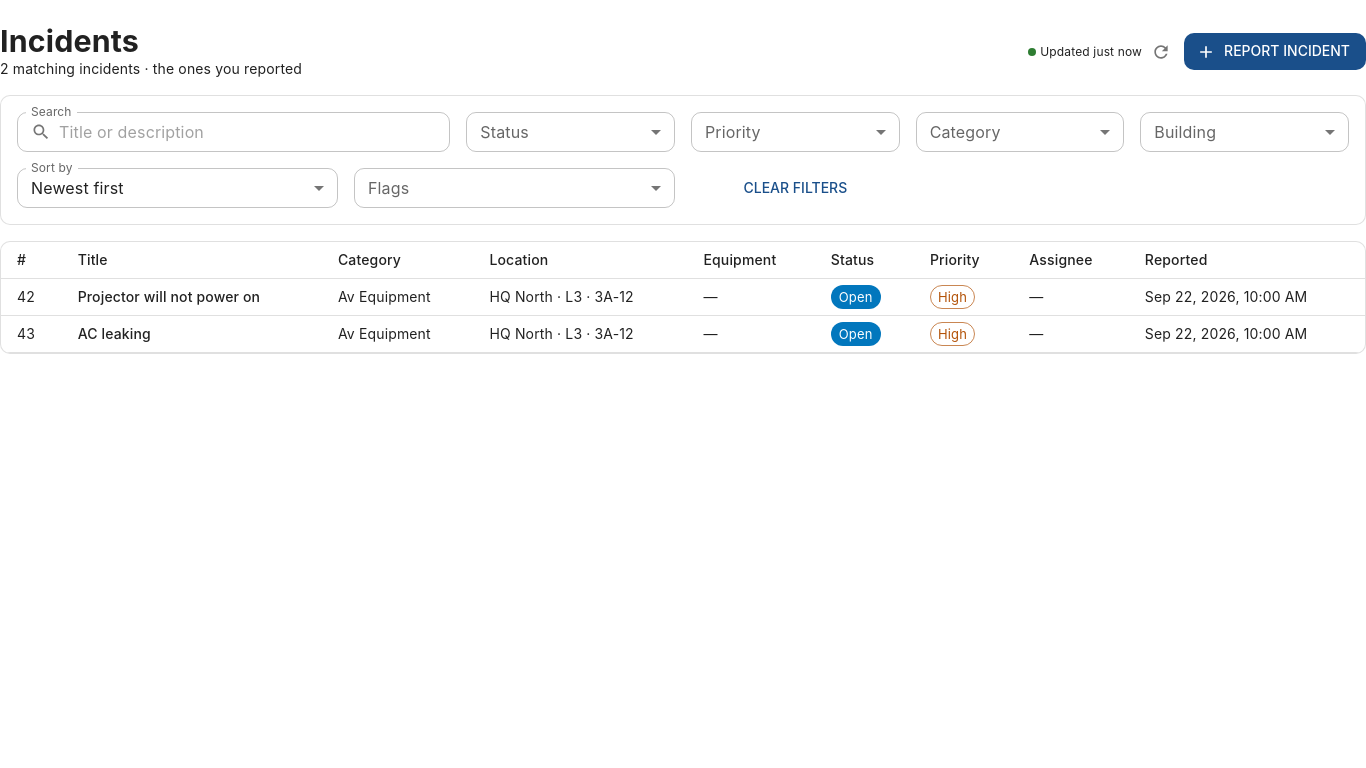
Test case: reporting an incident › reports a rejected submission instead of closing silently
Expected: the text "Projector will not power on" is shown, [78,288,260,308]
Click the button "Report incident". click: (1275, 52)
box: [1184,34,1365,70]
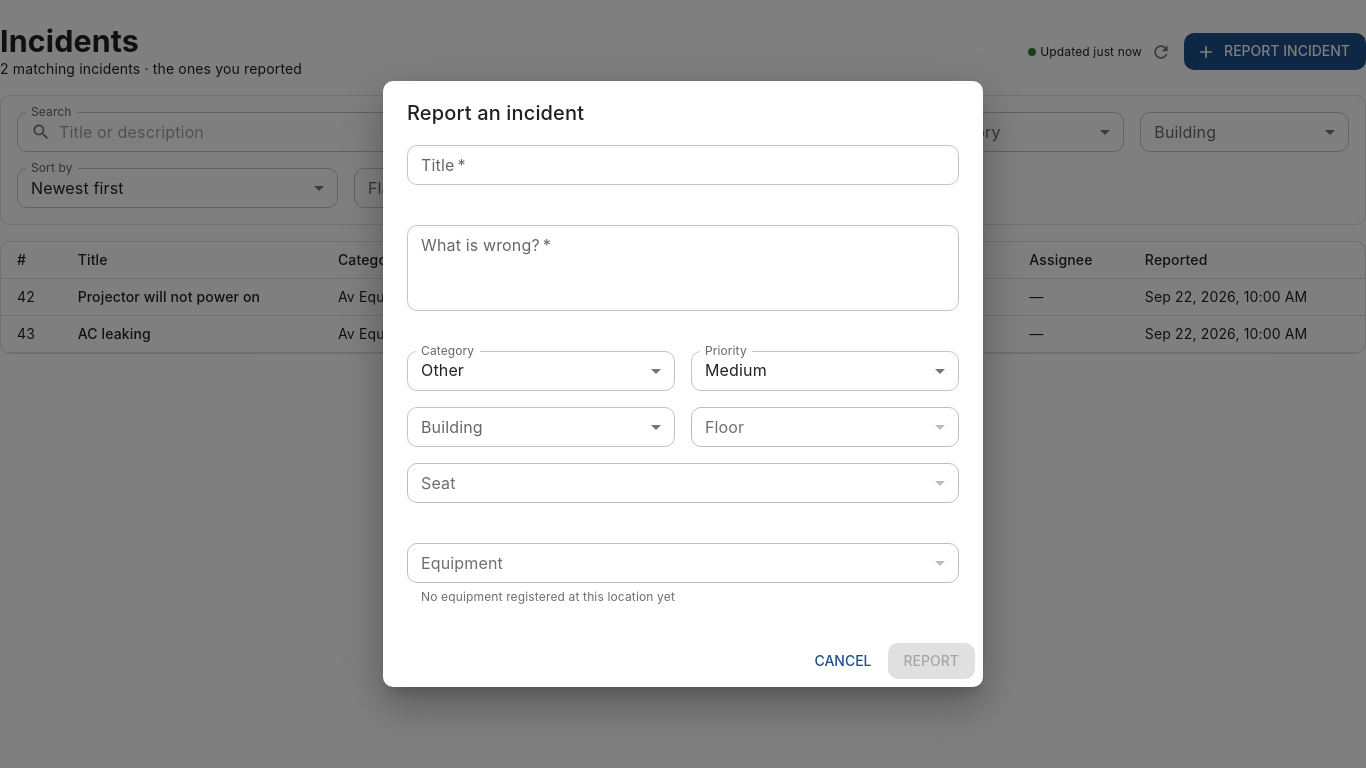
Type "Something" into the field labelled "Title *". click: (683, 165)
box: [407,145,959,185]
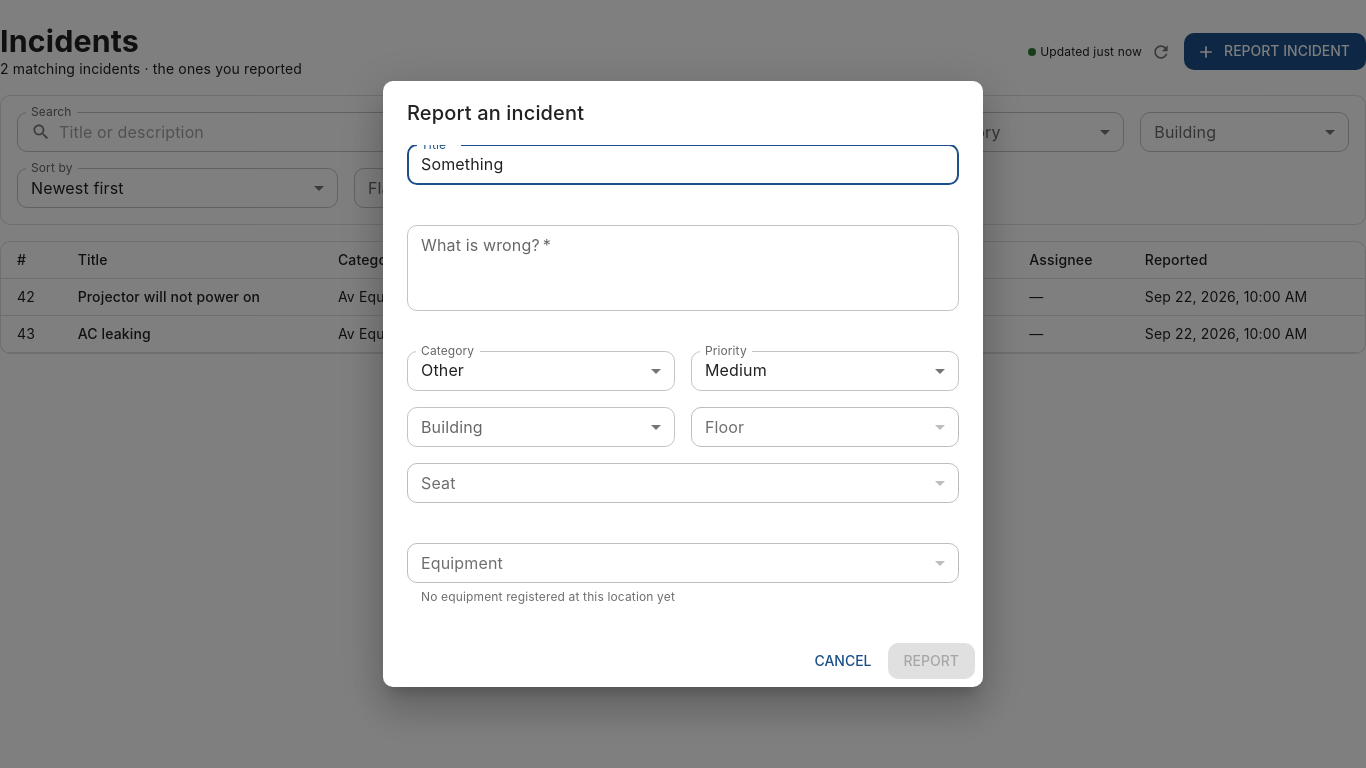
Type "Details here." into the text box labelled "What is wrong? *". click: (683, 268)
box: [421,233,945,302]
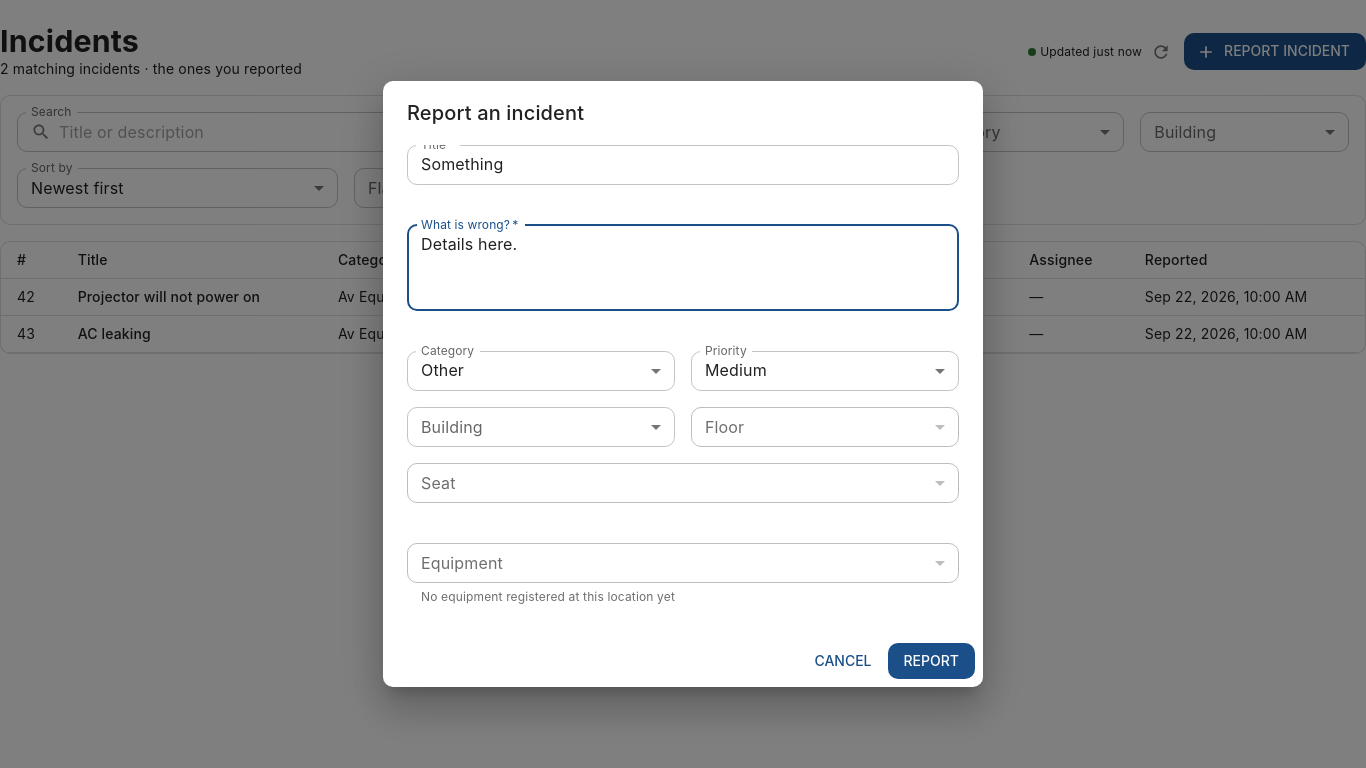
Click the button "Report". click: (931, 661)
box: [888,643,975,679]
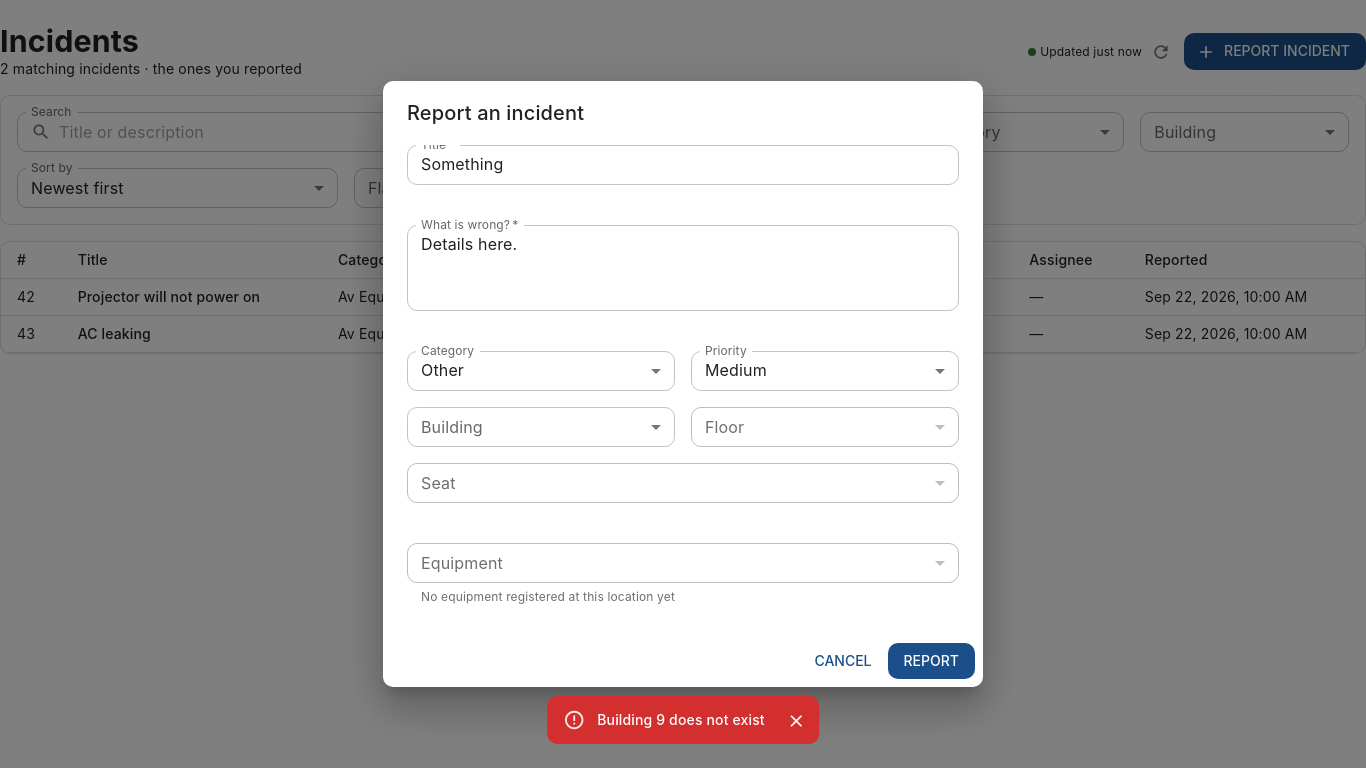
Expected: the text "Building 9 does not exist" is shown, [597,711,765,728]
